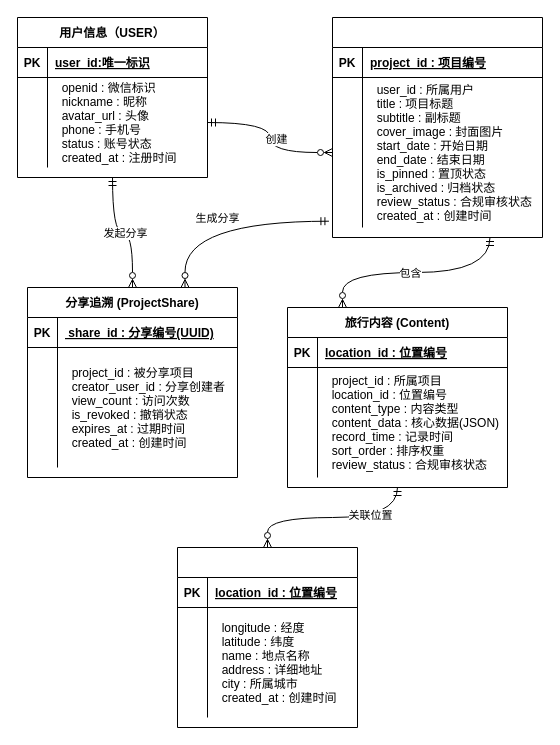
Some shapes in this 560 by 745 pixel diagram are drawn without their labels. Here are the shapes that lost their labels. From the top down, the box of each, then its label:
(332, 16, 542, 238): 旅行项目 (Project)
(176, 546, 358, 728): 地理位置 (Location)
